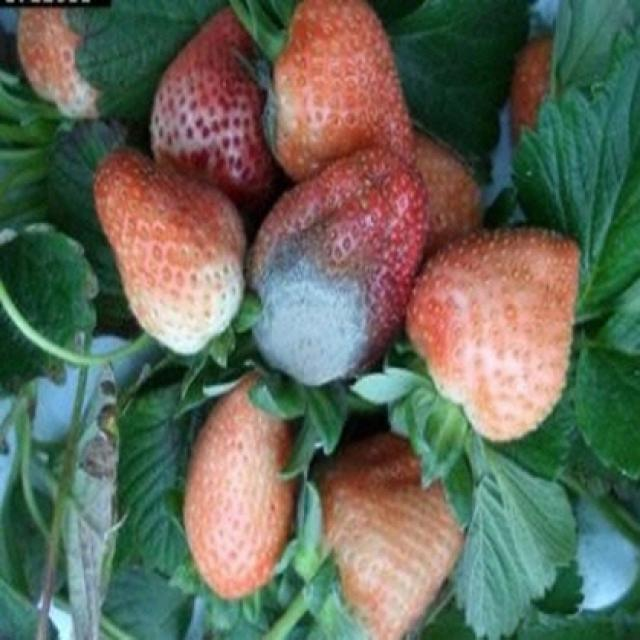Gray Mold: (244, 151, 431, 387)
